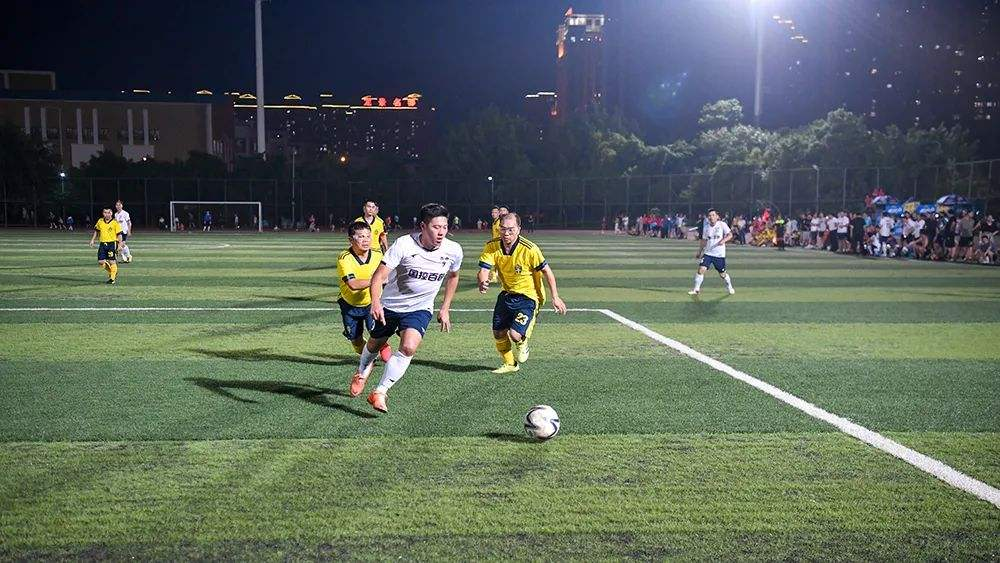football: (521, 403, 563, 444)
